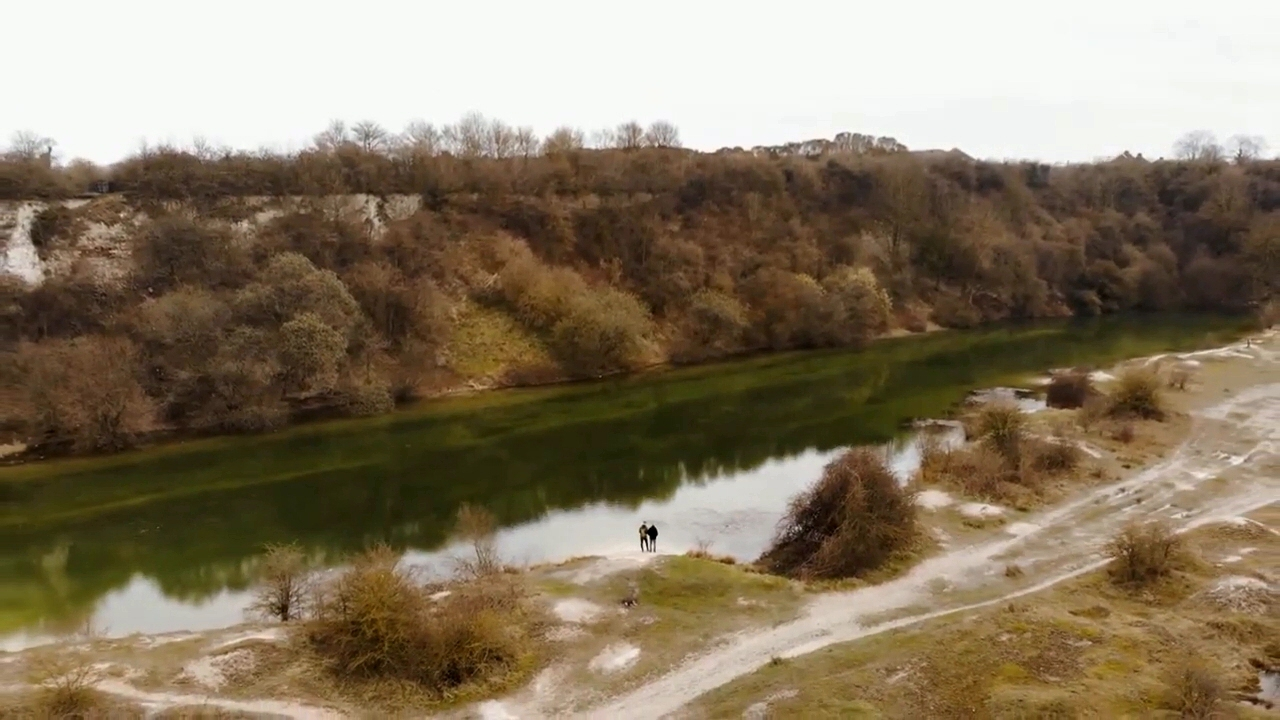insan: (634, 523, 654, 554), (647, 523, 660, 554)
